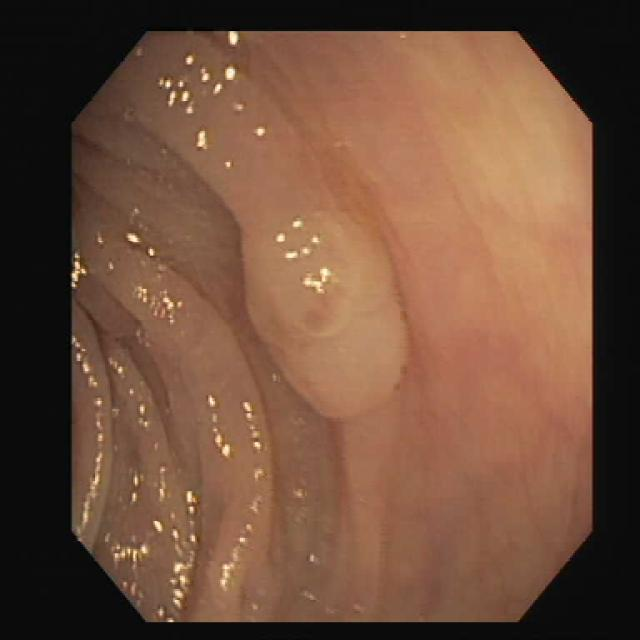tumor: (238, 191, 413, 420)
